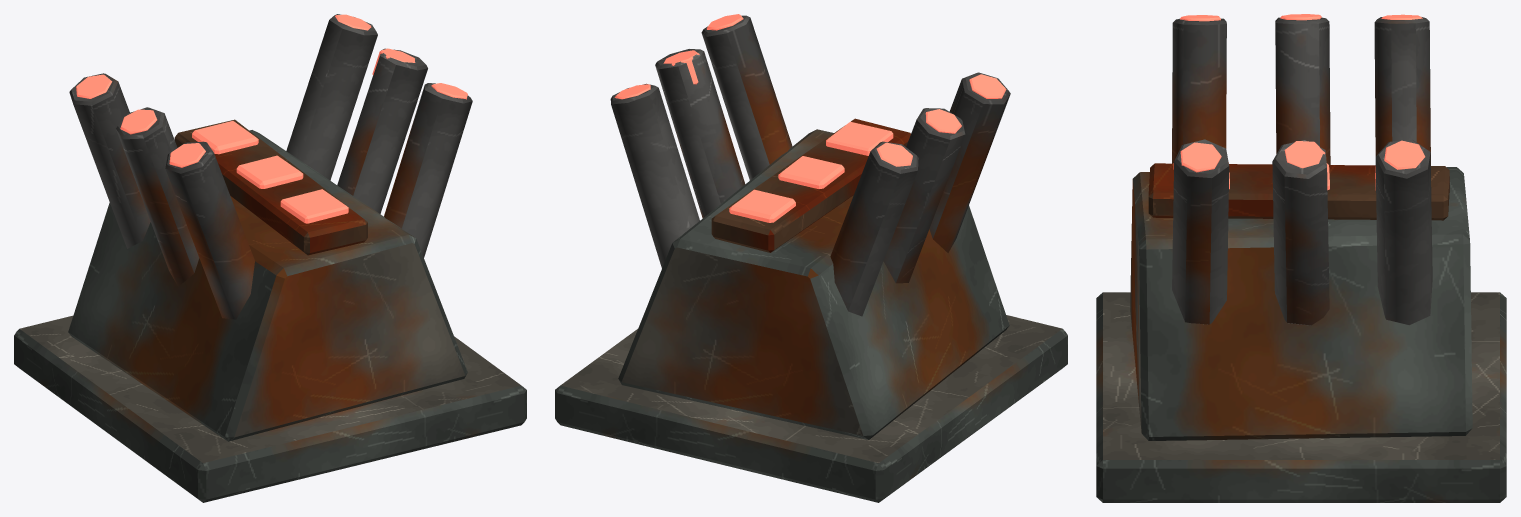
The model's file is R4X_Overdrive_LOD1.glb.
The picture shows the model from 3 angles, left to right: view 1: azimuth 30°, elevation 25°; view 2: azimuth 150°, elevation 25°; view 3: azimuth 270°, elevation 25°; orthographic projection. The views are drawn at different scales.
Visible parts, largest first — view 1: R4X_Overdrive_LOD1; view 2: R4X_Overdrive_LOD1; view 3: R4X_Overdrive_LOD1.
Boxes of the visible parts, left/top/right/bottom form: R4X_Overdrive_LOD1: left=14, top=14, right=526, bottom=502; R4X_Overdrive_LOD1: left=555, top=14, right=1067, bottom=502; R4X_Overdrive_LOD1: left=1096, top=14, right=1506, bottom=502.
Bounding box in the file's own units: 0.52 × 0.4751 × 0.52.
Materials: 5 (4 with a texture image).
